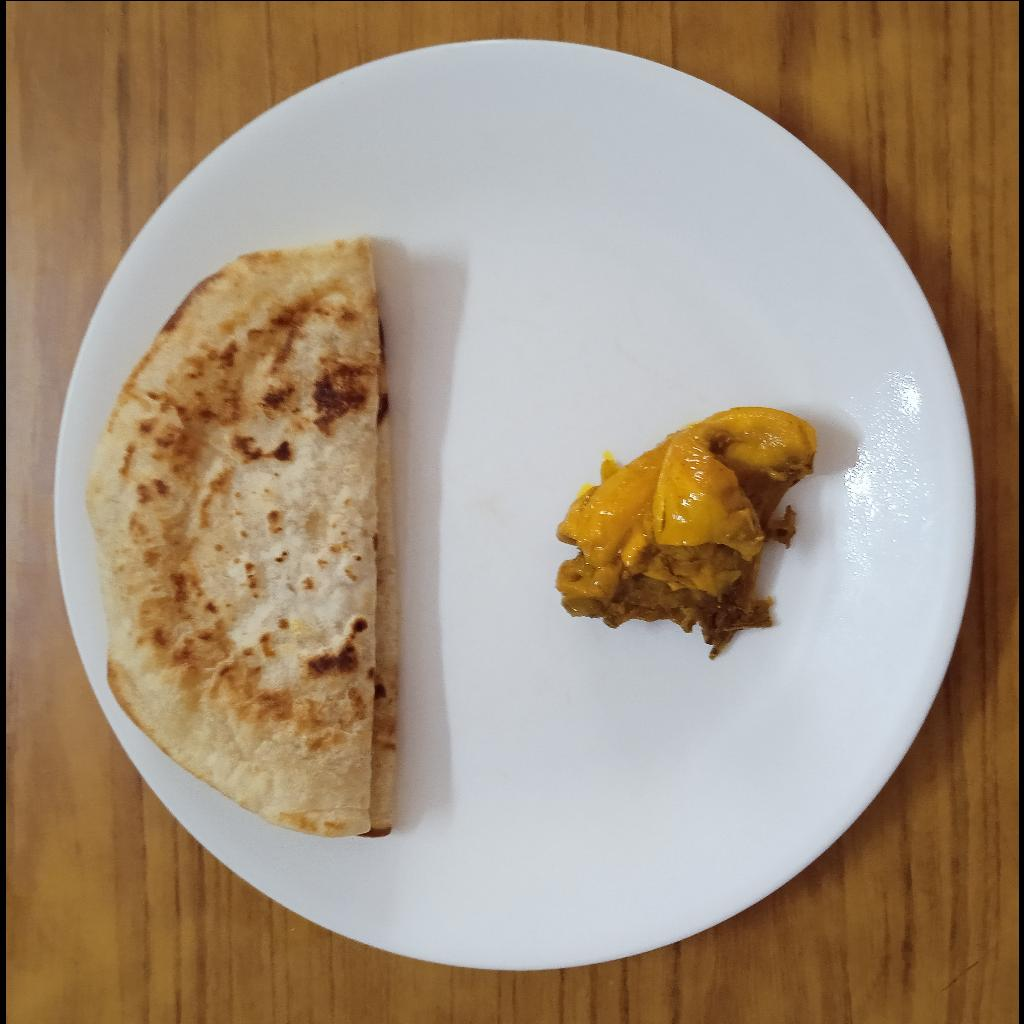chicken: (551, 404, 820, 660)
ruti: (77, 238, 396, 841)
